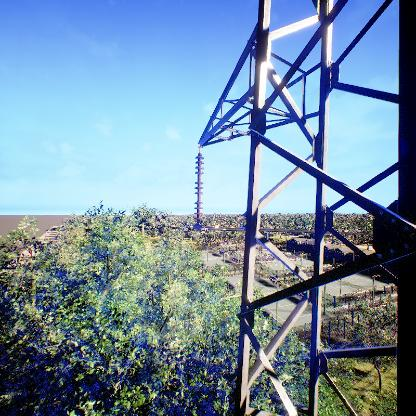insulator: (193, 153, 205, 222)
